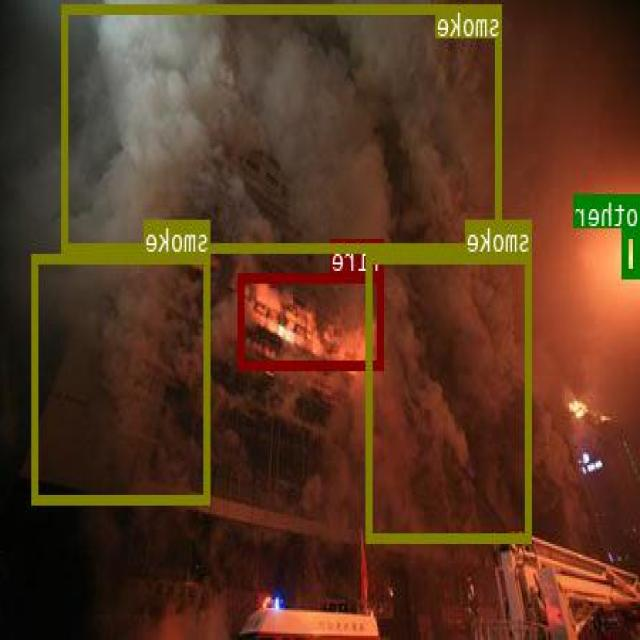fire: (240, 272, 384, 368)
other: (623, 226, 640, 277)
smoke: (63, 3, 503, 252), (368, 253, 532, 540), (33, 252, 211, 502)
